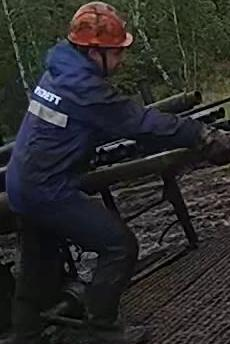gloves: (164, 119, 230, 165)
helmet: (67, 0, 133, 58)
vest: (5, 50, 110, 210)
